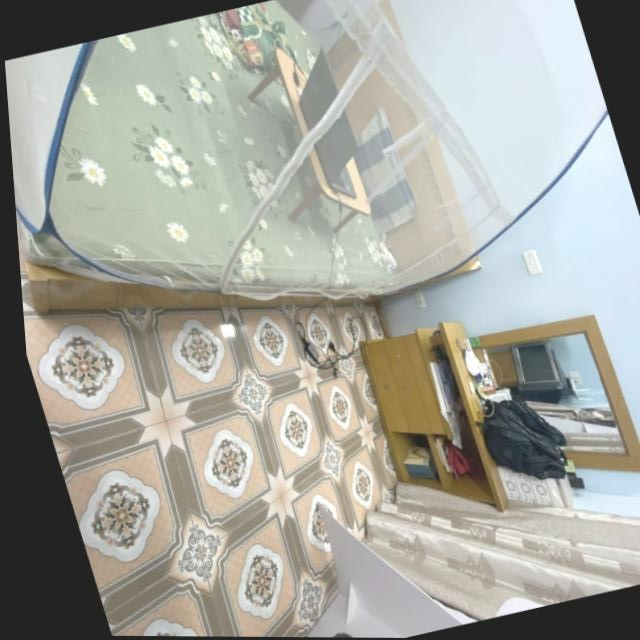outlet: (408, 285, 433, 319)
